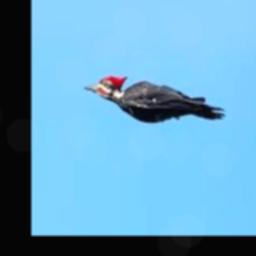Woodpecker: (85, 74, 226, 123)
